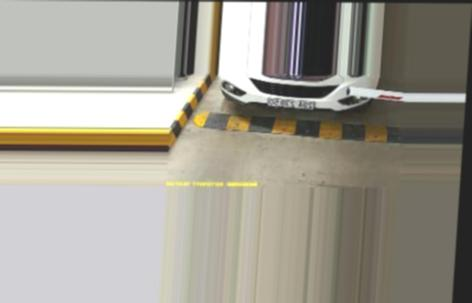License_Plate: (263, 96, 318, 111)
